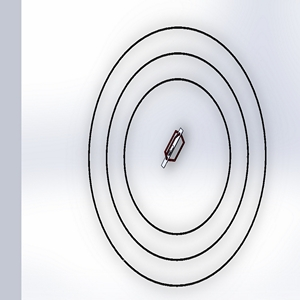circle: (84, 20, 274, 291)
submarine: (151, 115, 195, 178)
